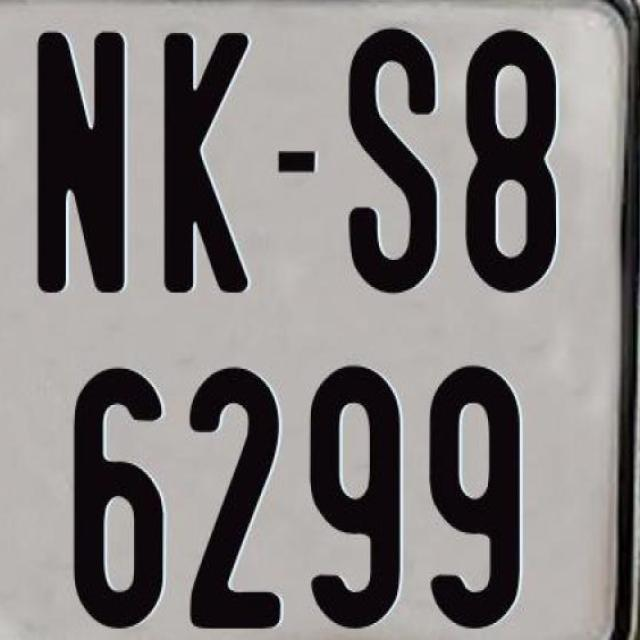license-plate: (5, 0, 636, 640)
